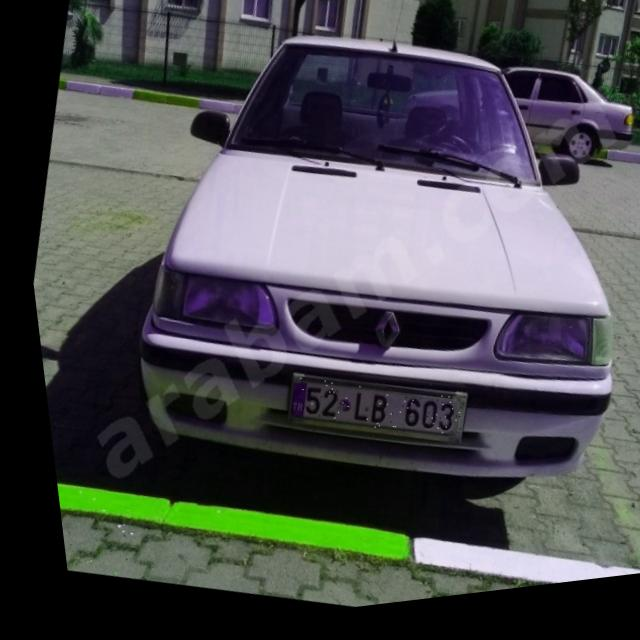license_plate: (275, 367, 457, 464)
